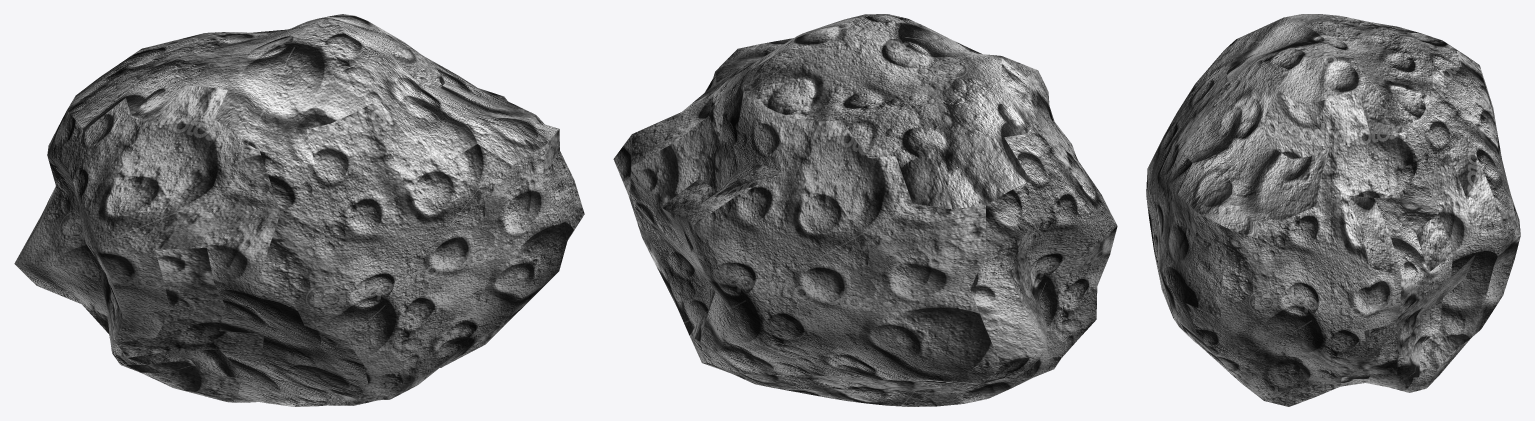
Rendered from asteroide_6.FBX.
3 views of the same model, side by side, from view 1: azimuth 30°, elevation 25°; view 2: azimuth 150°, elevation 25°; view 3: azimuth 270°, elevation 25° (orthographic). The views are drawn at different scales.
Parts seen in each view (by area): view 1: asteroide_1; view 2: asteroide_1; view 3: asteroide_1.
Part boxes in pixels (bbox=[...]): asteroide_1: bbox=[14, 14, 584, 406]; asteroide_1: bbox=[613, 14, 1117, 406]; asteroide_1: bbox=[1146, 14, 1520, 406].
Bounding box in the file's own units: 838 × 601 × 638.
1 material, 1 textured.
